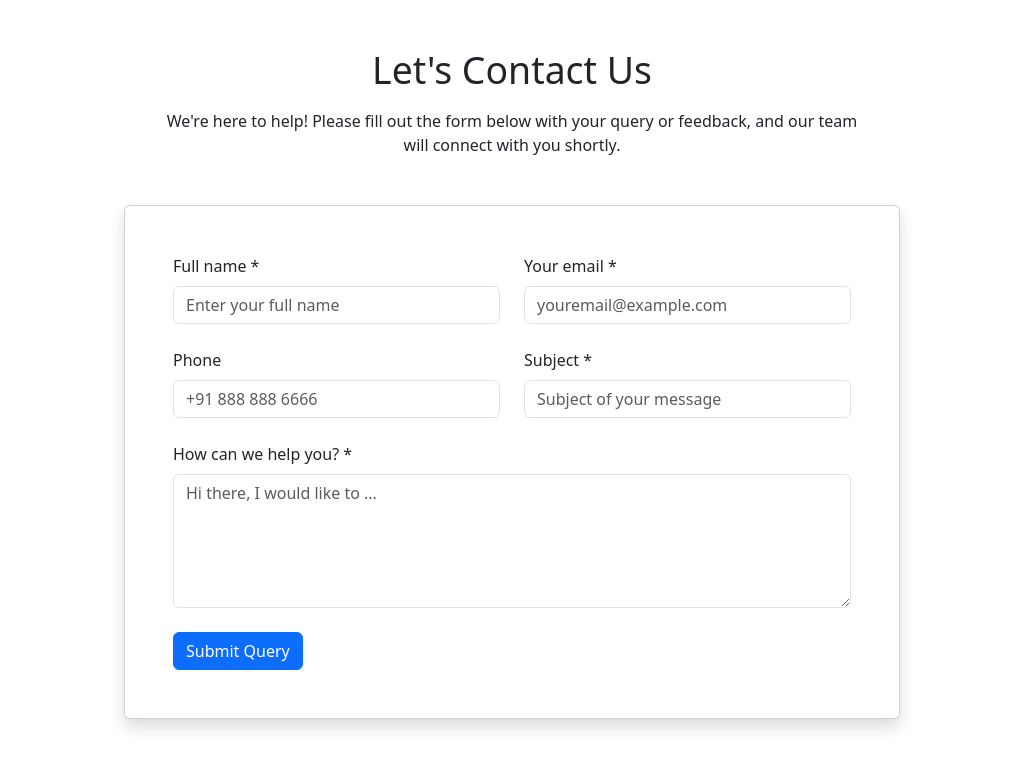
Test: ContactForm › submits the form successfully and shows popup
Type "Ashutosh" into the field labelled "Full name *".
click(336, 305); type("Ashutosh")  # box [173,286,500,324]
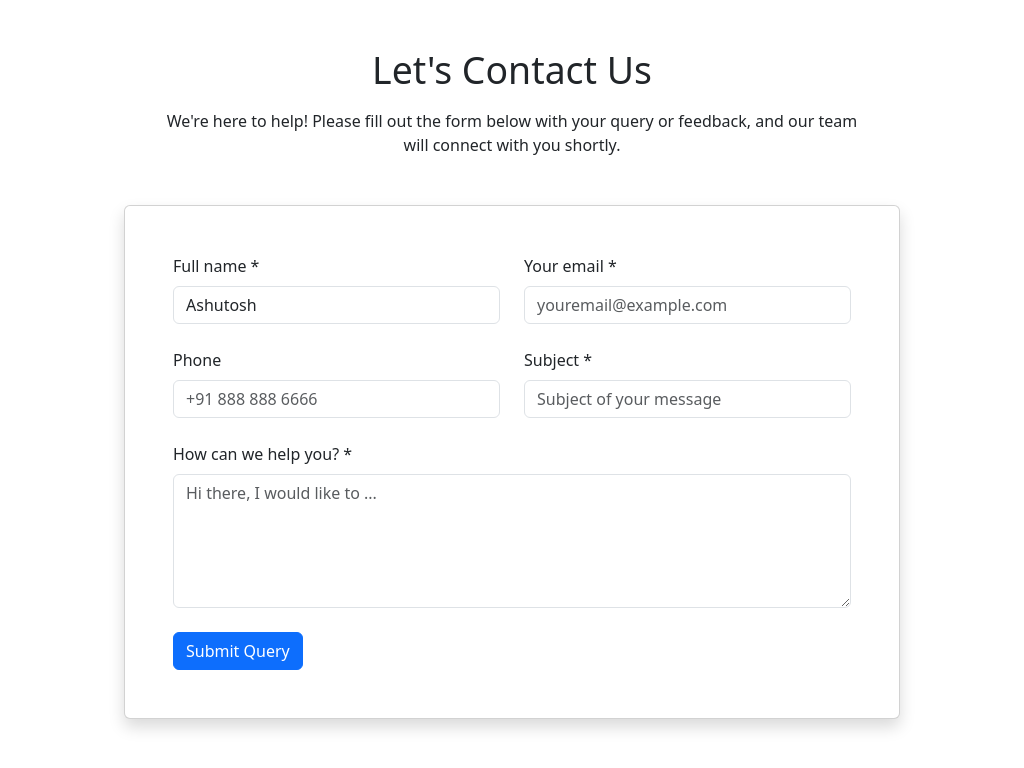
Type "ashu@example.com" into the field labelled "Your email *".
click(688, 305); type("ashu@example.com")  # box [524,286,851,324]
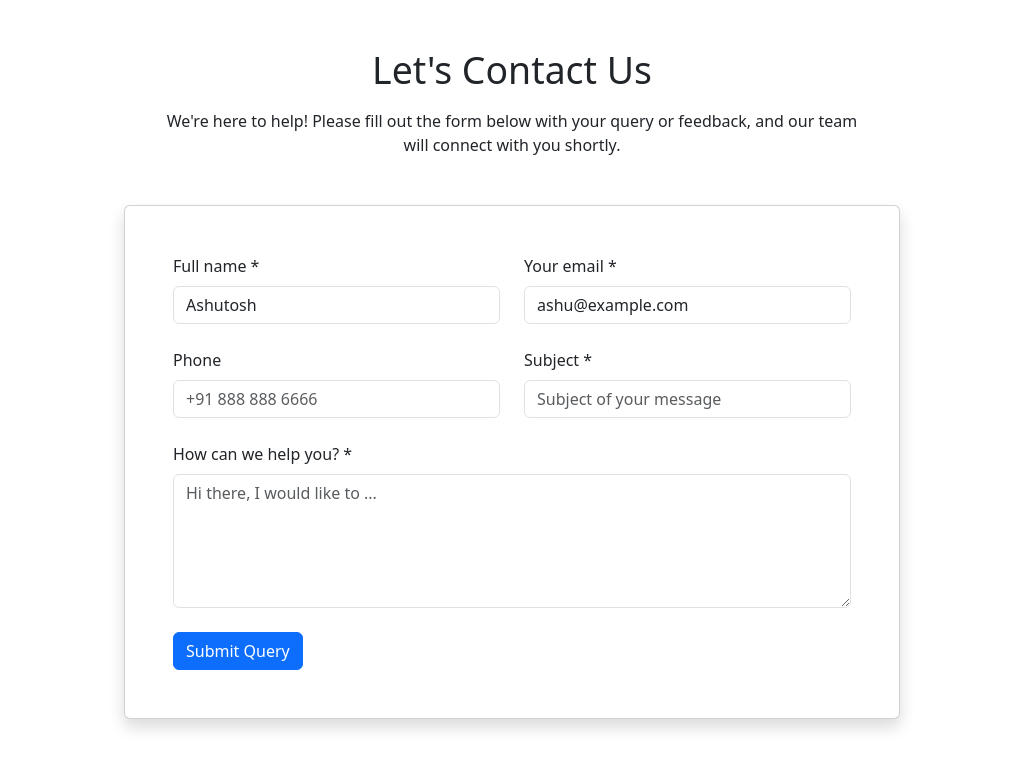
Type "9999999999" into the field labelled "Phone".
click(336, 399); type("9999999999")  # box [173,380,500,418]
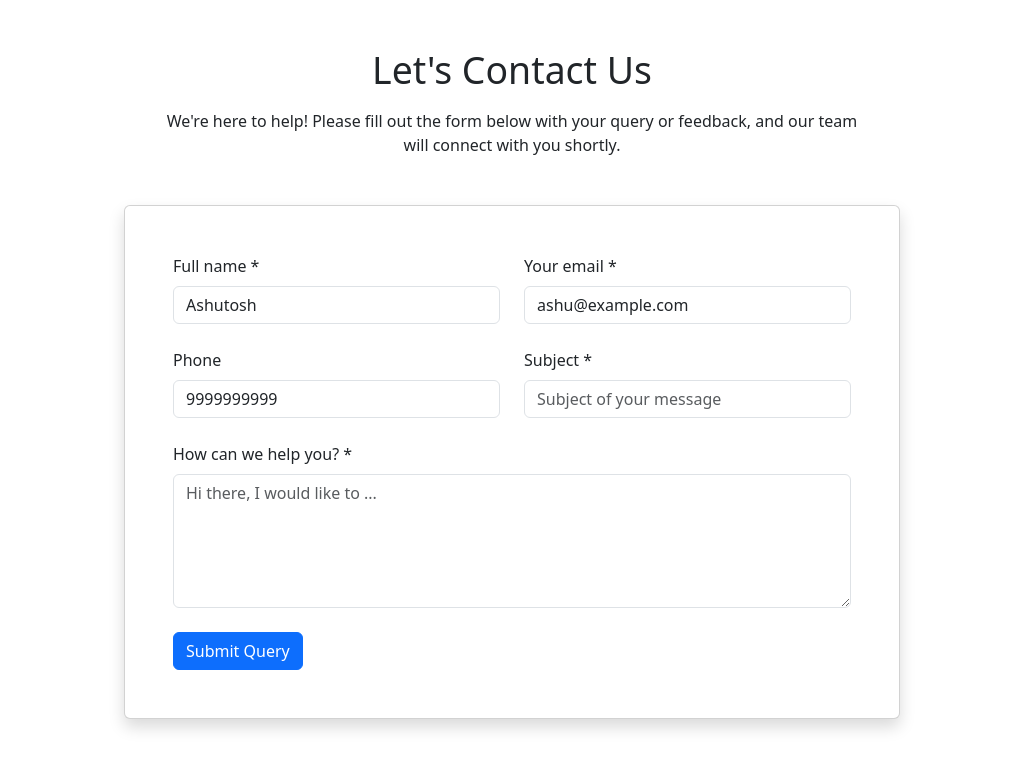
Type "Test Subject" into the field labelled "Subject *".
click(688, 399); type("Test Subject")  # box [524,380,851,418]
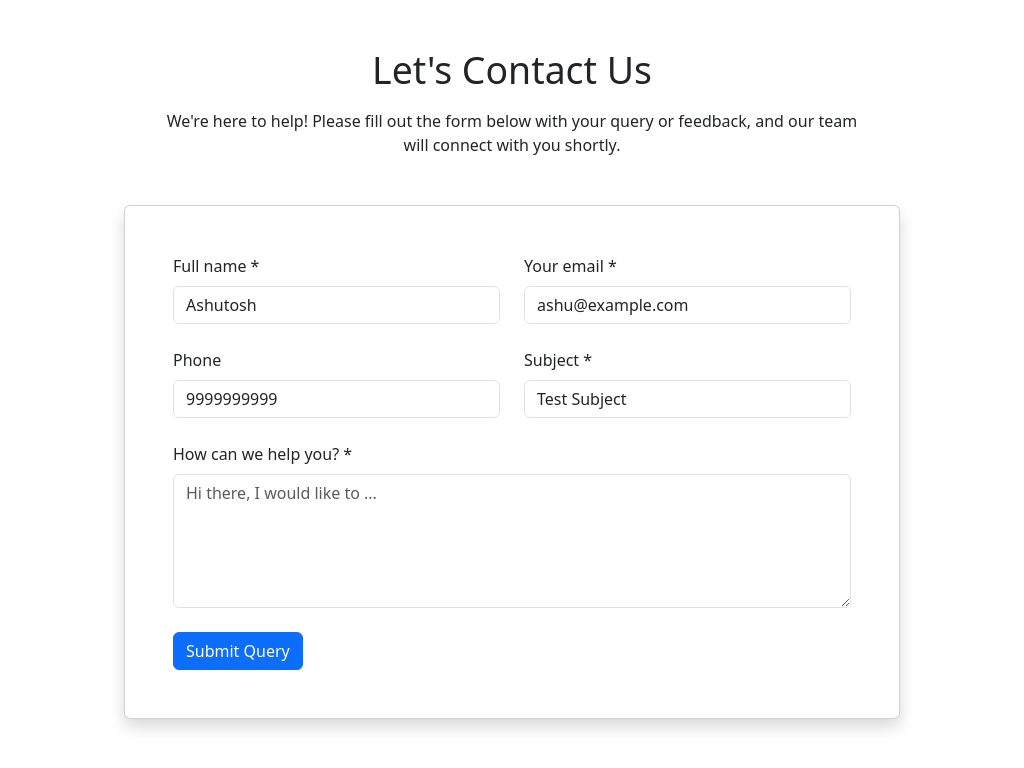
Type "Test Message" into the text box labelled "How can we help you? *".
click(512, 541); type("Test Message")  # box [173,474,851,608]
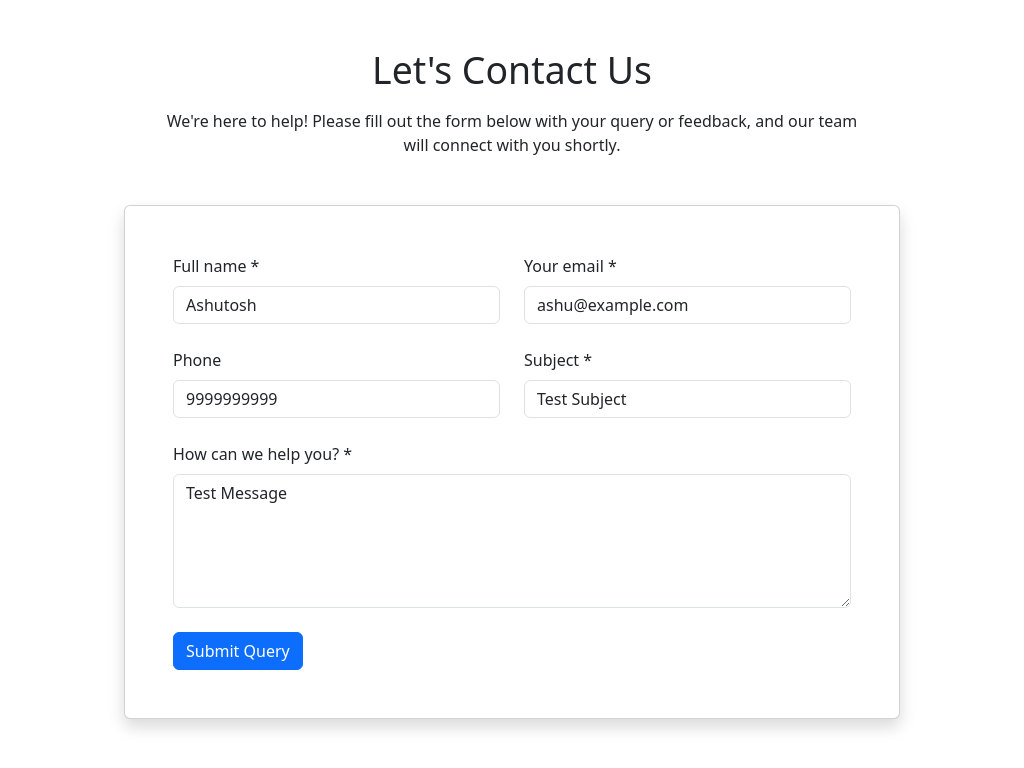
Click the button "Submit Query".
click(238, 651)  # box [173,632,303,670]
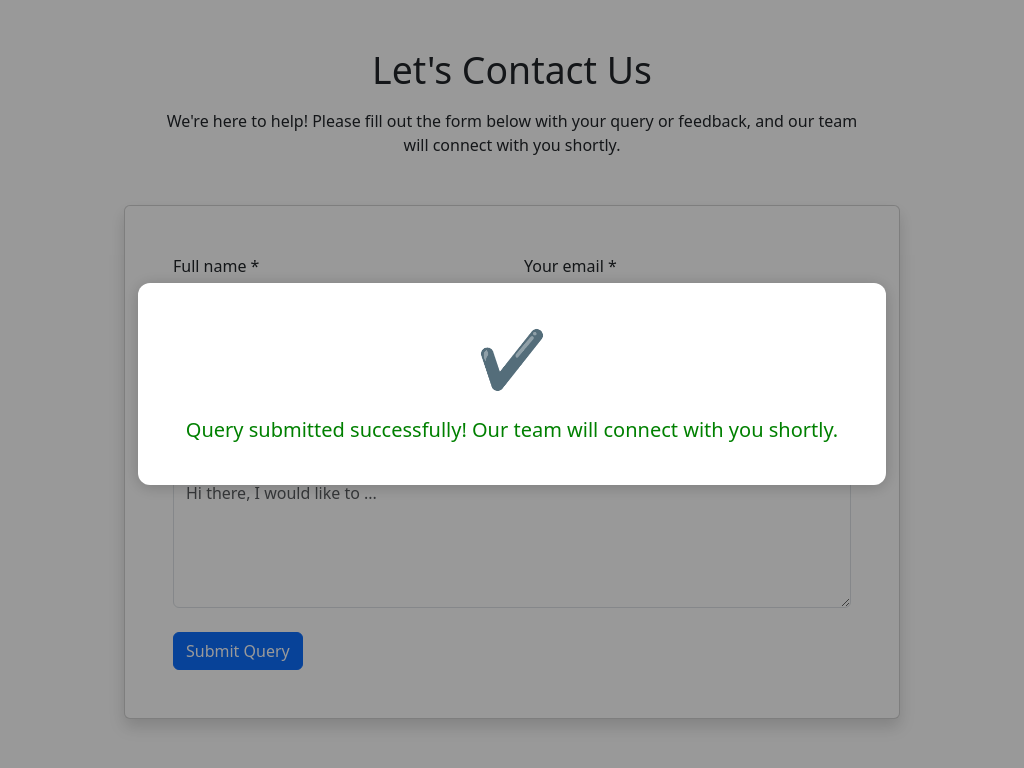
Expected: the text "Query submitted successfully! Our team will connect with you shortly" is shown, [186,416,838,443]
